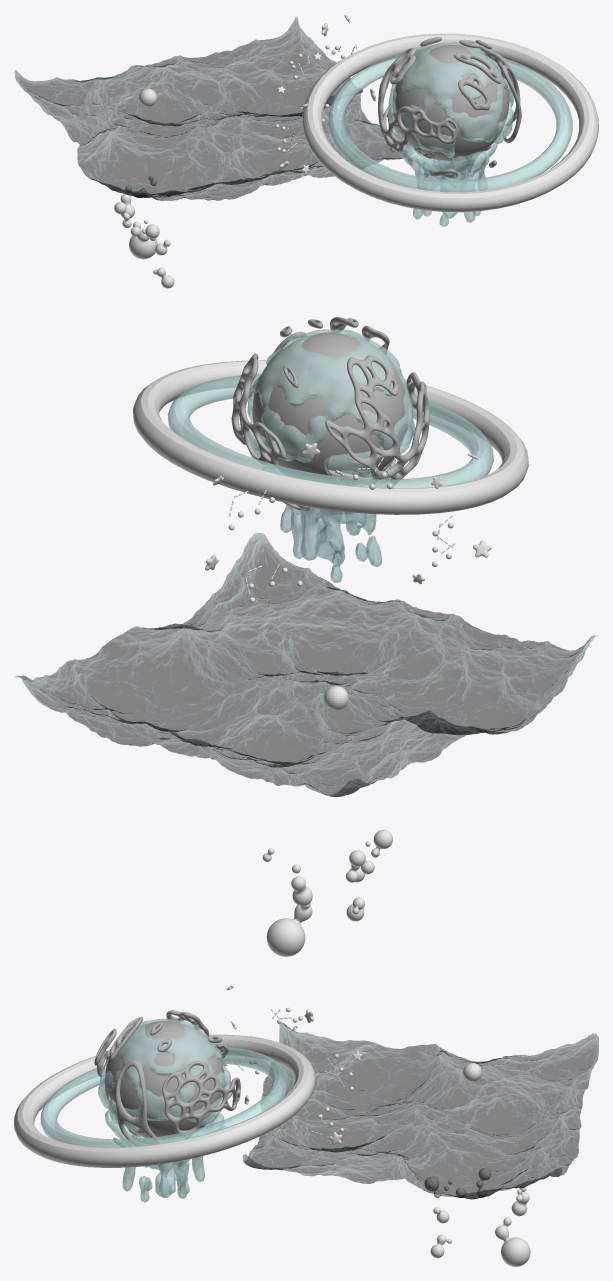
File: PLANET copy 3.fbx
3 views of the same model, one above another, from view 1: azimuth 30°, elevation 25°; view 2: azimuth 150°, elevation 25°; view 3: azimuth 270°, elevation 25° (orthographic). The views are drawn at different scales.
Parts seen in each view (by area): view 1: 平面, Torus.001, Cube, Sphere, Torus.002, Plane.001, Mball; view 2: 平面, Torus.001, Cube, Sphere, Plane.001, Torus.002, Mball; view 3: 平面, Torus.001, Cube, Sphere, Plane.001, Torus.002, Mball.
Part boxes in pixels (left/top/right/bottom): 平面: left=14, top=16, right=411, bottom=200; Torus.001: left=302, top=33, right=598, bottom=212; Cube: left=388, top=42, right=514, bottom=226; Sphere: left=392, top=44, right=508, bottom=161; Torus.002: left=328, top=51, right=572, bottom=192; Plane.001: left=378, top=37, right=521, bottom=178; Mball: left=114, top=176, right=174, bottom=288; 平面: left=14, top=532, right=597, bottom=796; Torus.001: left=133, top=360, right=528, bottom=514; Cube: left=247, top=329, right=415, bottom=582; Sphere: left=252, top=332, right=408, bottom=485; Plane.001: left=231, top=317, right=429, bottom=511; Torus.002: left=167, top=374, right=493, bottom=488; Mball: left=262, top=829, right=392, bottom=956; 平面: left=243, top=1022, right=598, bottom=1199; Torus.001: left=14, top=1034, right=315, bottom=1167; Cube: left=98, top=1018, right=231, bottom=1202; Sphere: left=104, top=1020, right=224, bottom=1139; Plane.001: left=94, top=1010, right=240, bottom=1146; Torus.002: left=40, top=1047, right=288, bottom=1147; Mball: left=424, top=1168, right=530, bottom=1266.
Bounding box in the file's own units: 7142 × 5449 × 9113.
